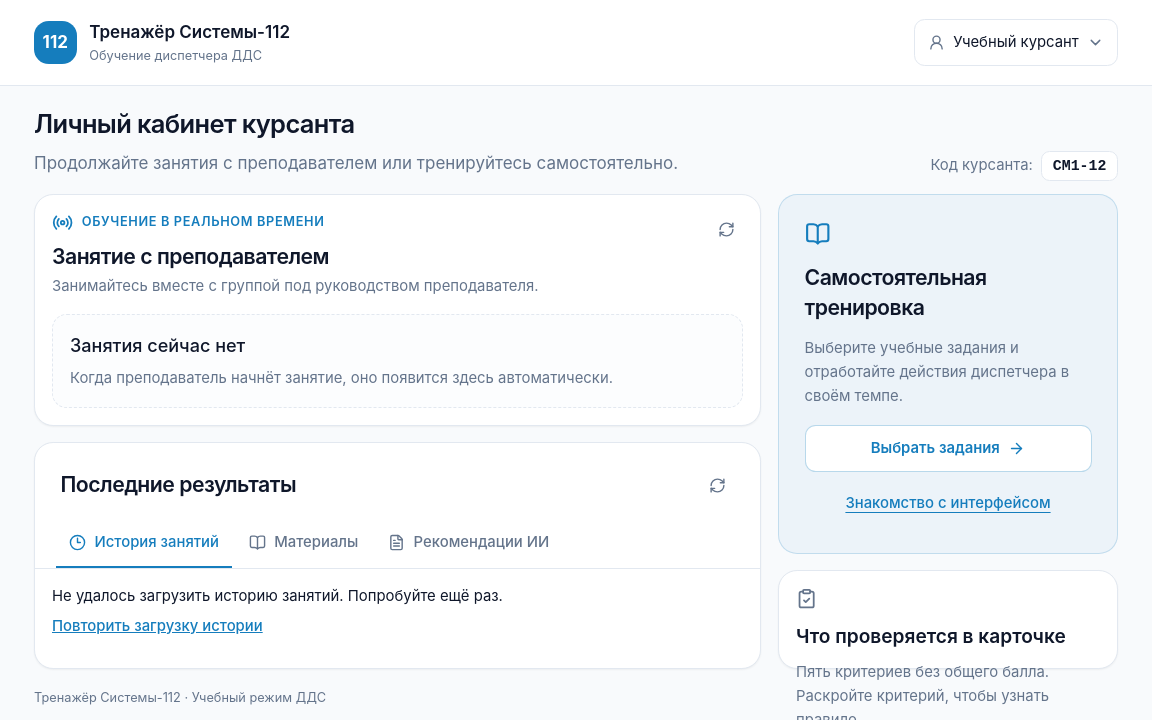
Test: keeps training available if history fails and reloads history on retry
Expected: the text "Не удалось загрузить историю занятий. Попробуйте ещё раз." is shown, [52,587,503,605]
Expected: the text "История занятий пока пуста" is not shown
Click the button "Повторить загрузку истории" at (157, 626), box [52,616,263,637]
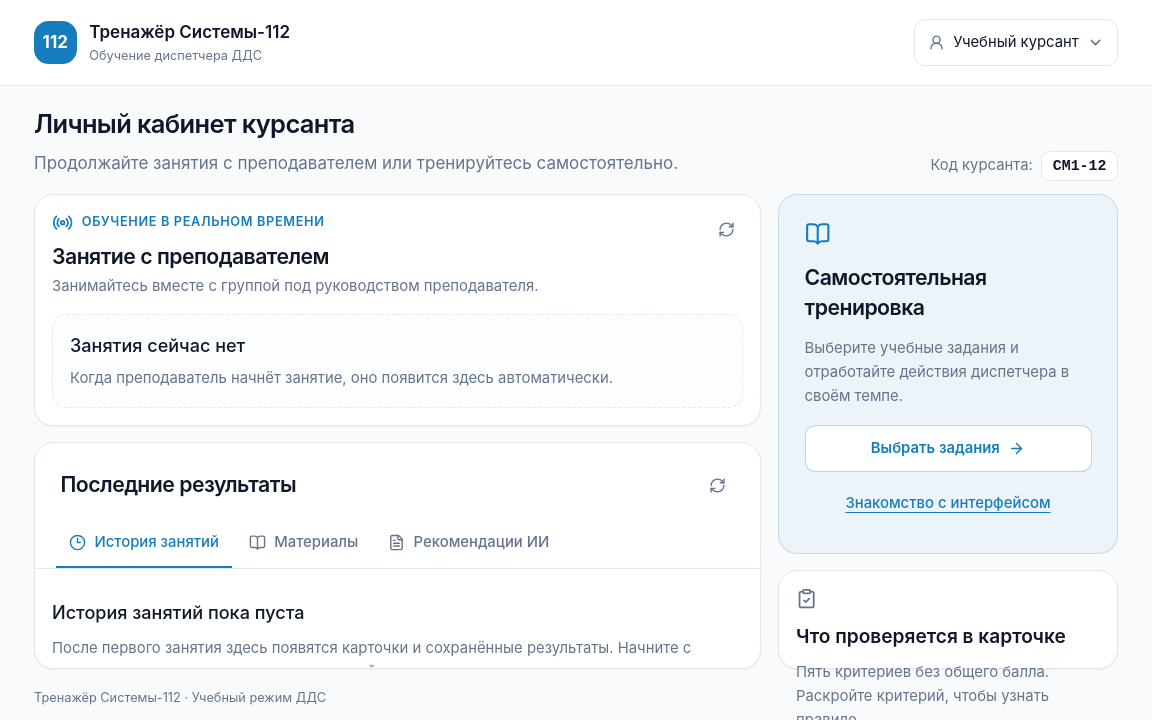
Expected: the text "История занятий пока пуста" is shown, [52,602,304,623]
